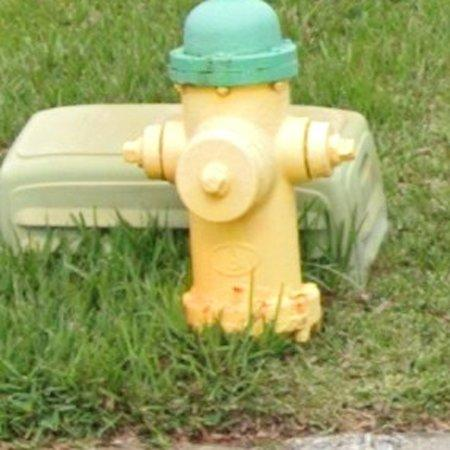a fire hydrant: (123, 0, 357, 342)
